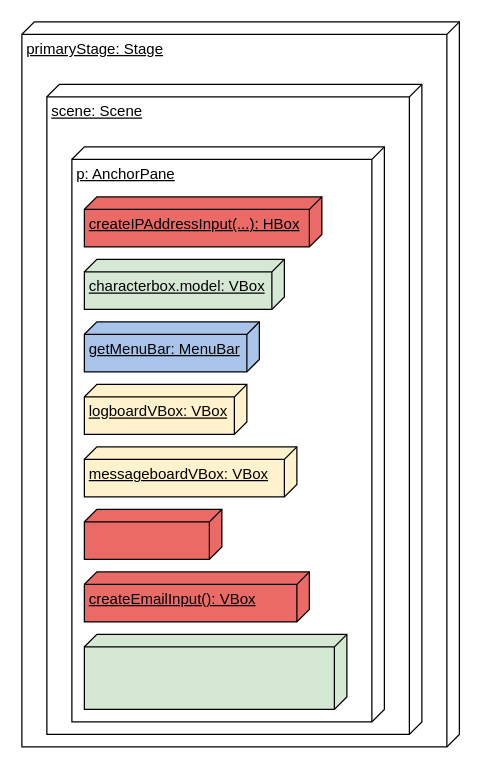
The diagram is 481 pixels wide and 769 high, and some of its shapes have lost their labels. The shapes that lost their labels are listed below. From the top down, each one's centre as x and y in pixels, then its label:
pixel 152 533: textHBox: HBox
pixel 215 671: friendsset.get(...).getModel(): VBox
